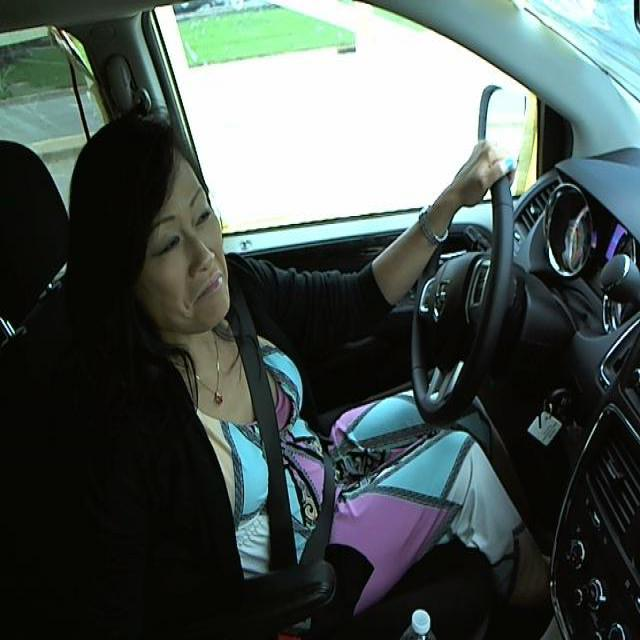seatbelt: (232, 300, 343, 564)
